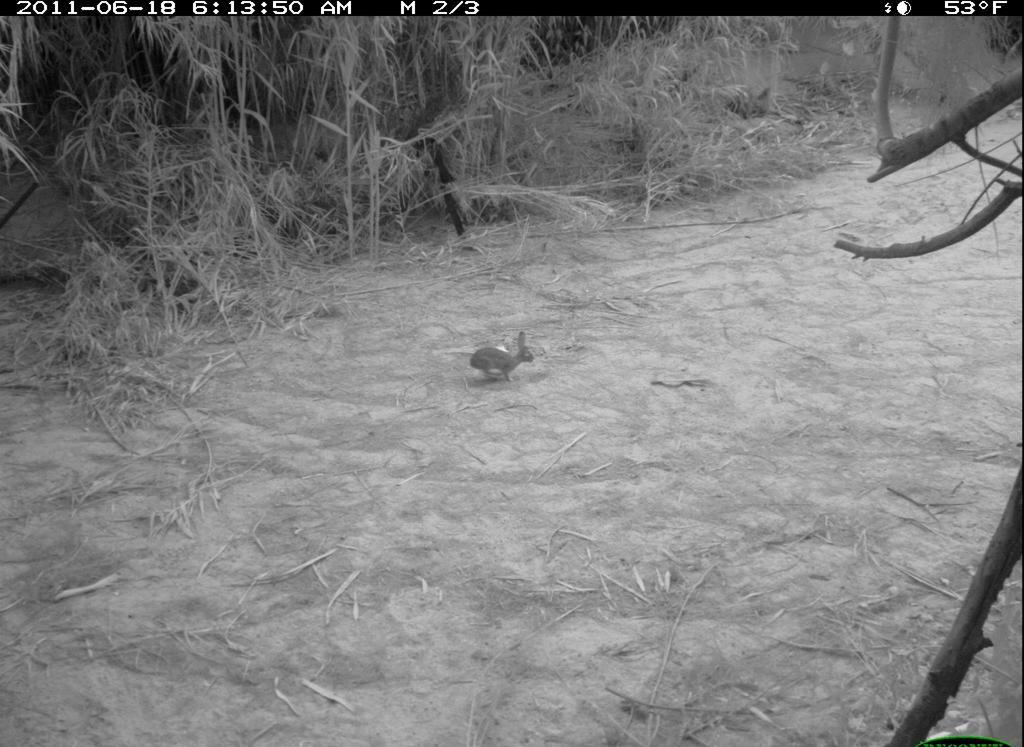rabbit: (464, 328, 542, 395)
